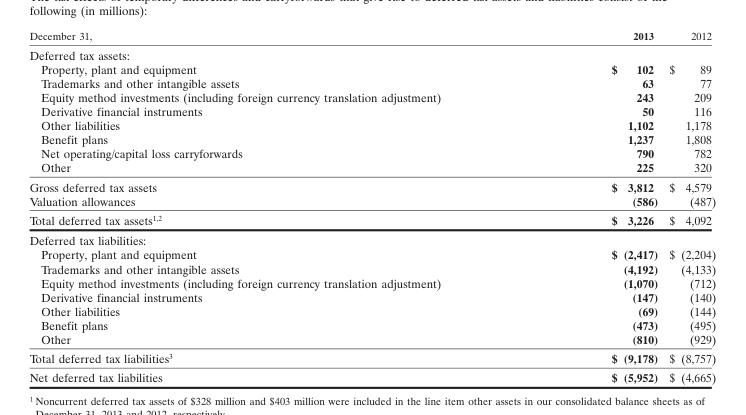table: (28, 29, 715, 384)
table column: (28, 29, 525, 384), (525, 29, 663, 384), (663, 29, 715, 384)
table column header: (28, 29, 715, 44)
table projected row header: (28, 44, 715, 61), (28, 230, 715, 247)
table row: (28, 210, 715, 230), (28, 348, 715, 367), (28, 44, 715, 61), (28, 176, 715, 193), (28, 193, 715, 210), (28, 230, 715, 247), (28, 331, 715, 348), (28, 367, 715, 384), (28, 160, 715, 176), (28, 29, 715, 44), (28, 131, 715, 146), (28, 61, 715, 75), (28, 75, 715, 89), (28, 89, 715, 103), (28, 103, 715, 117), (28, 117, 715, 131), (28, 146, 715, 160), (28, 247, 715, 261), (28, 261, 715, 275), (28, 275, 715, 289), (28, 289, 715, 303), (28, 303, 715, 317), (28, 317, 715, 331)
